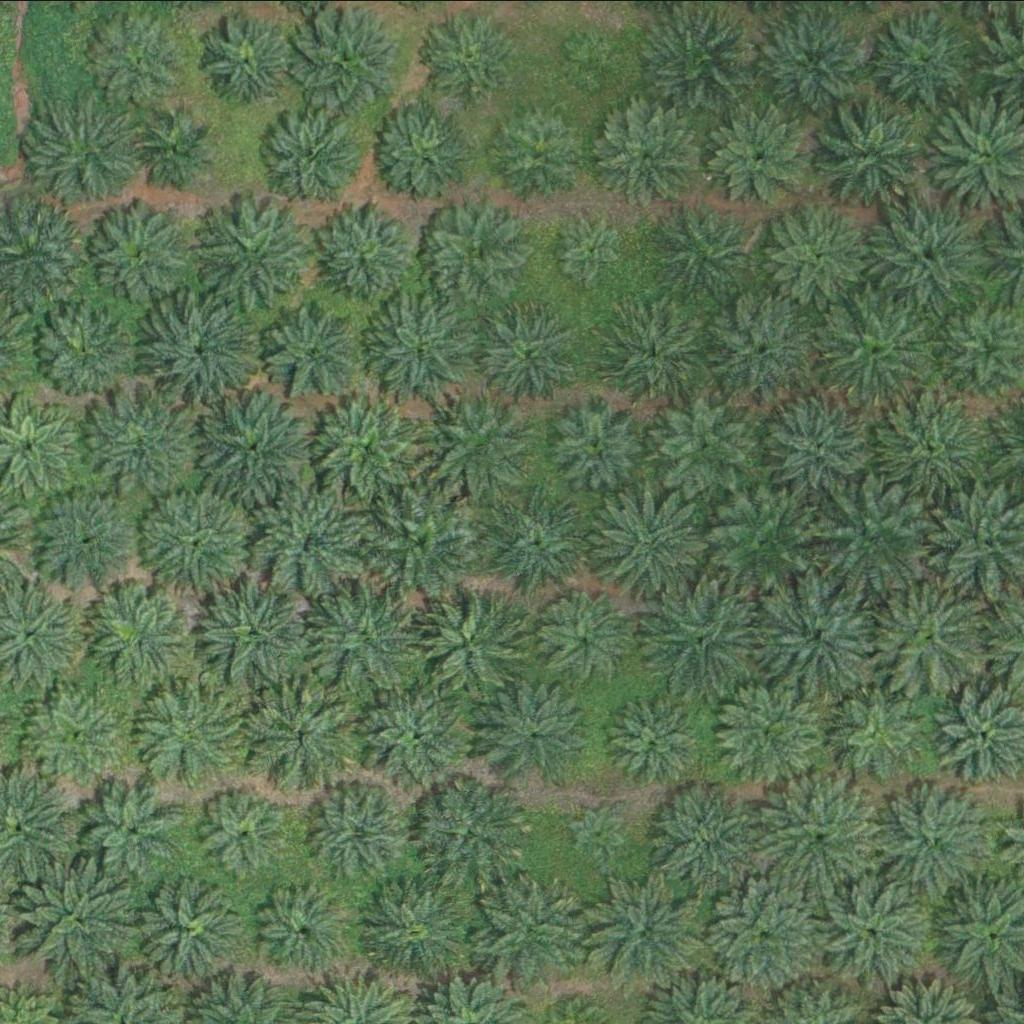Kelapa_Sawit: (29, 96, 143, 209), (289, 6, 403, 119), (703, 487, 817, 600), (639, 581, 753, 694), (483, 675, 597, 788), (813, 480, 927, 593), (136, 674, 249, 787), (245, 682, 358, 795), (29, 485, 142, 598), (83, 382, 196, 495), (193, 390, 306, 503), (368, 289, 481, 402), (314, 388, 427, 501), (313, 577, 426, 690), (412, 586, 525, 699), (761, 581, 874, 694), (364, 677, 477, 790), (585, 878, 698, 991), (708, 874, 821, 987), (820, 879, 933, 992), (874, 580, 987, 693), (812, 291, 925, 404), (872, 194, 985, 307), (249, 870, 363, 982), (83, 199, 197, 311), (764, 393, 878, 505), (418, 776, 532, 888), (361, 873, 475, 985), (872, 385, 986, 497), (19, 863, 132, 975), (132, 869, 245, 981), (200, 575, 313, 687), (143, 487, 256, 599), (255, 486, 368, 598), (136, 295, 249, 407), (201, 197, 314, 309), (637, 4, 750, 116), (759, 6, 872, 118), (709, 294, 822, 406), (425, 387, 538, 499), (365, 484, 478, 596), (477, 488, 590, 600), (589, 486, 702, 598), (716, 675, 829, 787), (650, 781, 763, 893), (763, 779, 876, 891), (474, 870, 587, 982), (881, 785, 994, 897), (813, 98, 926, 210), (866, 8, 979, 120), (81, 782, 182, 882), (27, 686, 128, 786), (87, 586, 188, 686), (265, 301, 366, 401), (419, 2, 520, 102), (368, 104, 469, 204), (487, 100, 588, 200), (595, 108, 696, 208), (706, 108, 807, 208), (313, 204, 414, 304), (425, 203, 526, 303), (651, 201, 752, 301), (767, 203, 868, 303), (474, 303, 575, 403), (607, 306, 708, 406), (551, 393, 652, 493), (654, 393, 755, 493), (821, 682, 922, 782), (310, 779, 410, 879), (31, 300, 131, 400), (264, 111, 364, 211), (87, 9, 187, 109), (199, 12, 299, 112), (533, 589, 633, 689), (602, 691, 702, 791), (200, 786, 288, 873), (133, 113, 209, 188), (557, 215, 632, 290), (561, 31, 624, 93), (566, 802, 629, 864)
